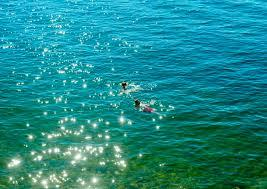swimmer: (133, 99, 158, 114), (120, 82, 142, 94)
